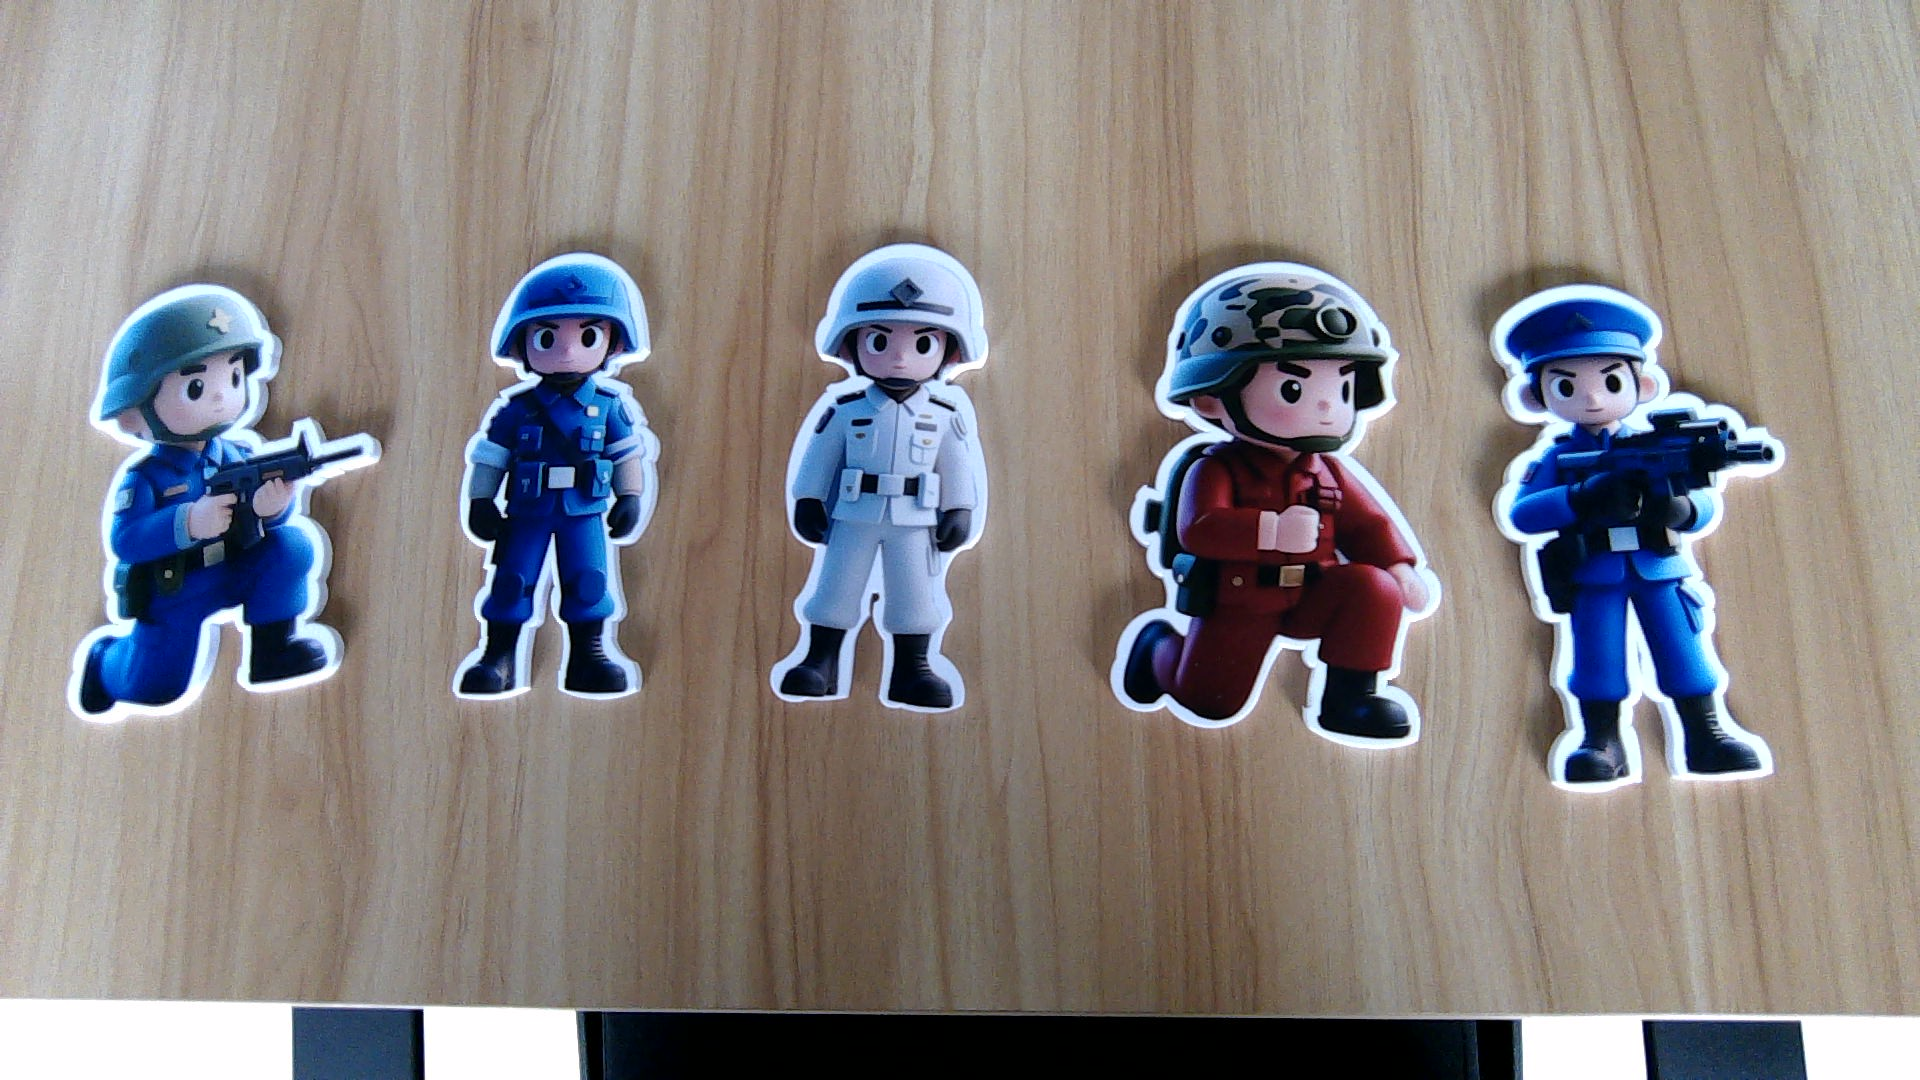人质: (770, 386, 996, 713)
敌人1: (1106, 454, 1439, 753)
敌人2: (1484, 426, 1799, 789), (59, 444, 375, 727), (452, 378, 665, 699)
